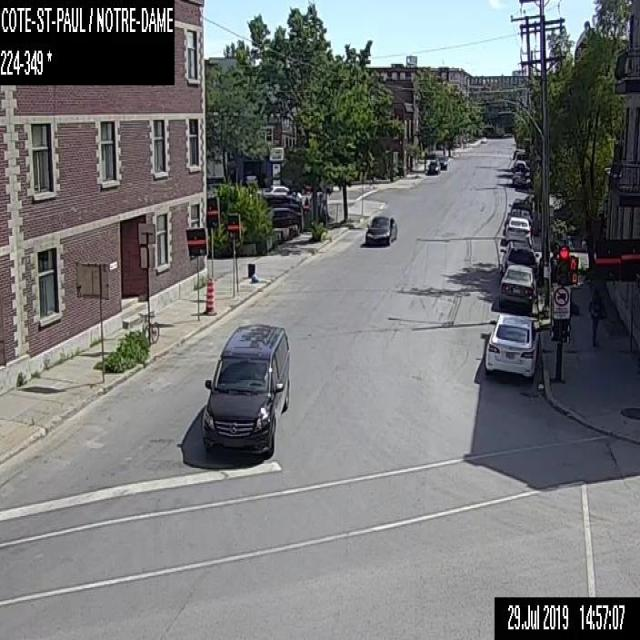construction: (203, 276, 214, 313)
vehicle: (199, 322, 291, 456), (484, 314, 541, 380), (500, 263, 534, 309), (499, 240, 539, 272), (364, 214, 396, 248), (504, 216, 530, 243), (266, 206, 300, 226), (264, 185, 301, 203), (508, 195, 532, 216), (425, 160, 440, 174), (512, 171, 525, 185), (513, 160, 526, 170), (437, 156, 447, 168), (514, 151, 526, 160)
